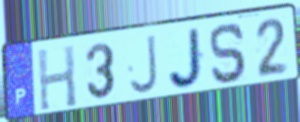2: (253, 17, 290, 80)
3: (84, 41, 116, 102)
H: (36, 43, 79, 113)
J: (167, 26, 207, 92), (128, 33, 161, 97)
S: (208, 21, 249, 85)
